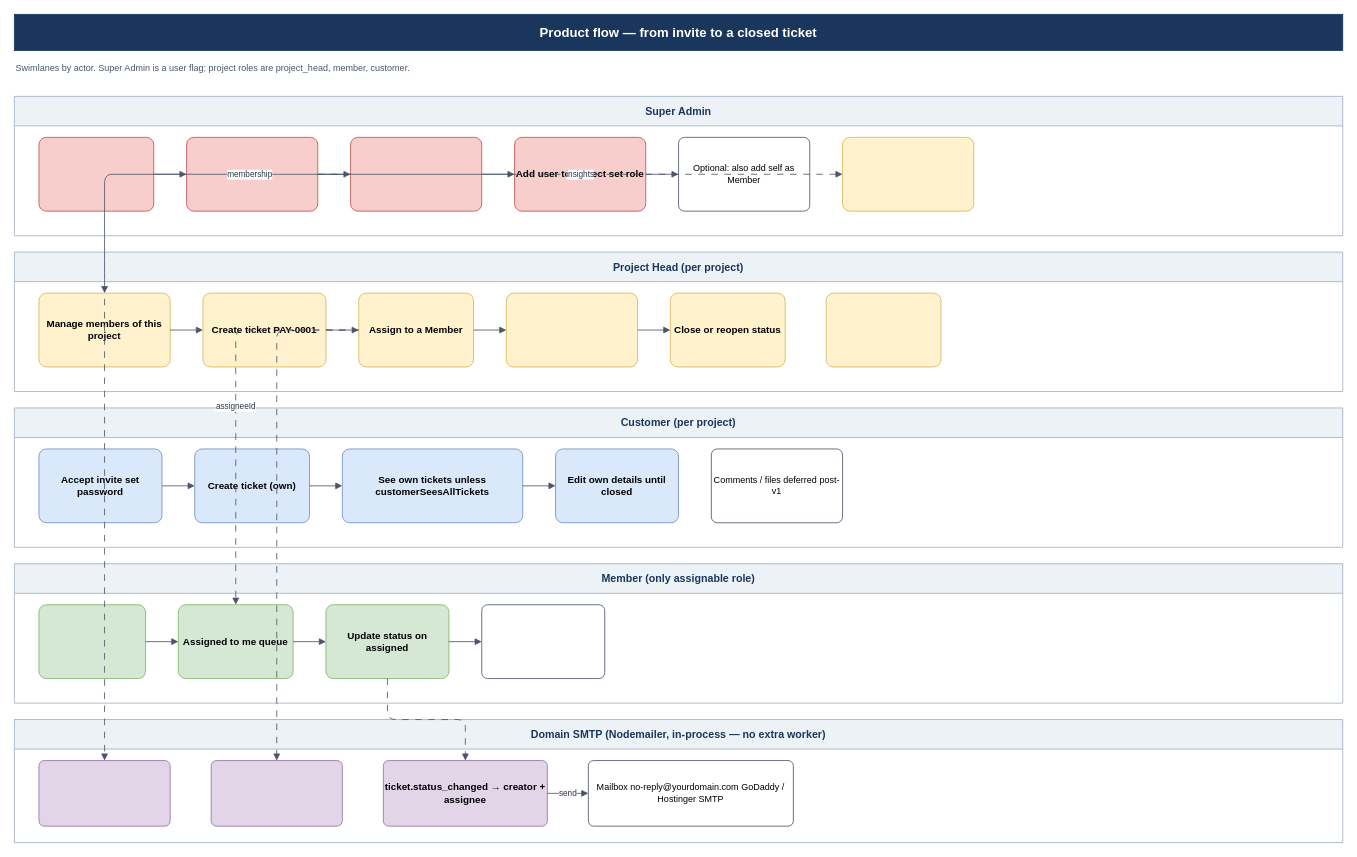
Some shapes in this 1357 by 857 pixel diagram are drawn without their labels. Each missing label, with the box of its shape:
Cannot assign or edit details: (481, 604, 605, 679)
Create project key, types, dates: (186, 137, 318, 211)
Create ticket: (38, 604, 146, 679)
Invite user email, 72h token: (350, 137, 482, 211)
Multi-project dashboard: (842, 137, 974, 211)
Project insights: (825, 292, 941, 367)
Reassign / unassign (not closed): (506, 292, 638, 367)
Seed first Super Admin: (38, 137, 154, 211)
ticket.assigned → assignee: (210, 760, 342, 826)
user.invited → invitee: (38, 760, 170, 826)
